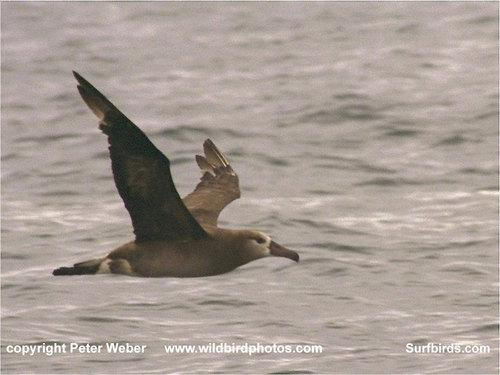001.Black_footed_Albatross: (51, 70, 301, 281)
